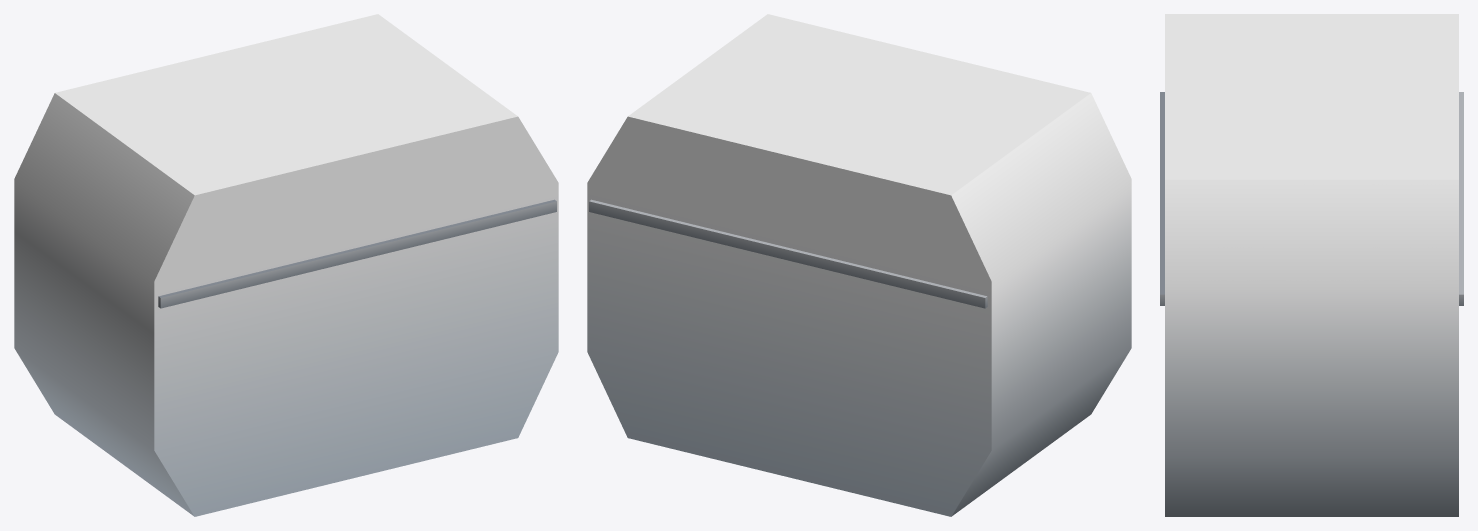
The model's file is dt_earbud_case.fbx.
3 renders of one model, left to right at view 1: azimuth 30°, elevation 25°; view 2: azimuth 150°, elevation 25°; view 3: azimuth 270°, elevation 25°, orthographic. The views are drawn at different scales.
Visible parts, largest first — view 1: dt_earbud_case; view 2: dt_earbud_case; view 3: dt_earbud_case.
Part boxes in pixels (x1,y1,x2,y2): dt_earbud_case: (14,14,558,516); dt_earbud_case: (587,14,1131,516); dt_earbud_case: (1160,14,1463,516).
Bounding box in the file's own units: 50 × 38 × 31.
